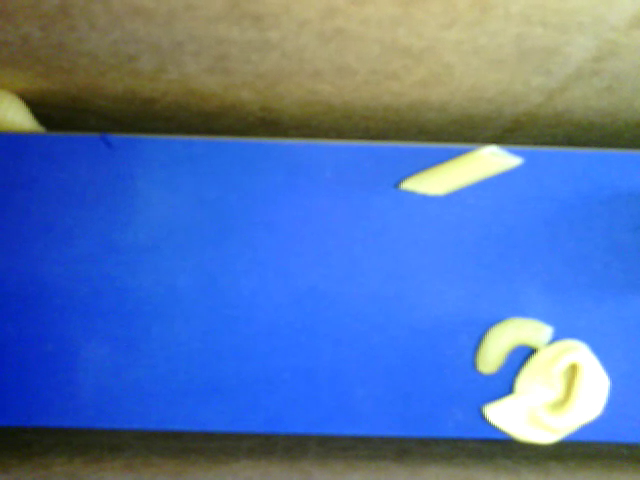elbow: (475, 316, 552, 374)
penne: (396, 140, 527, 196)
shell: (1, 87, 50, 133)
tortellini: (481, 336, 612, 444)
